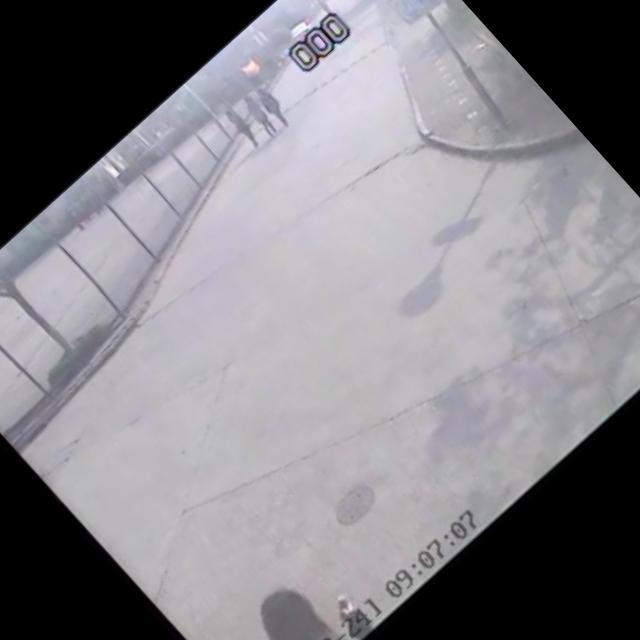person: (215, 97, 270, 155), (232, 86, 286, 142), (248, 79, 297, 130)
